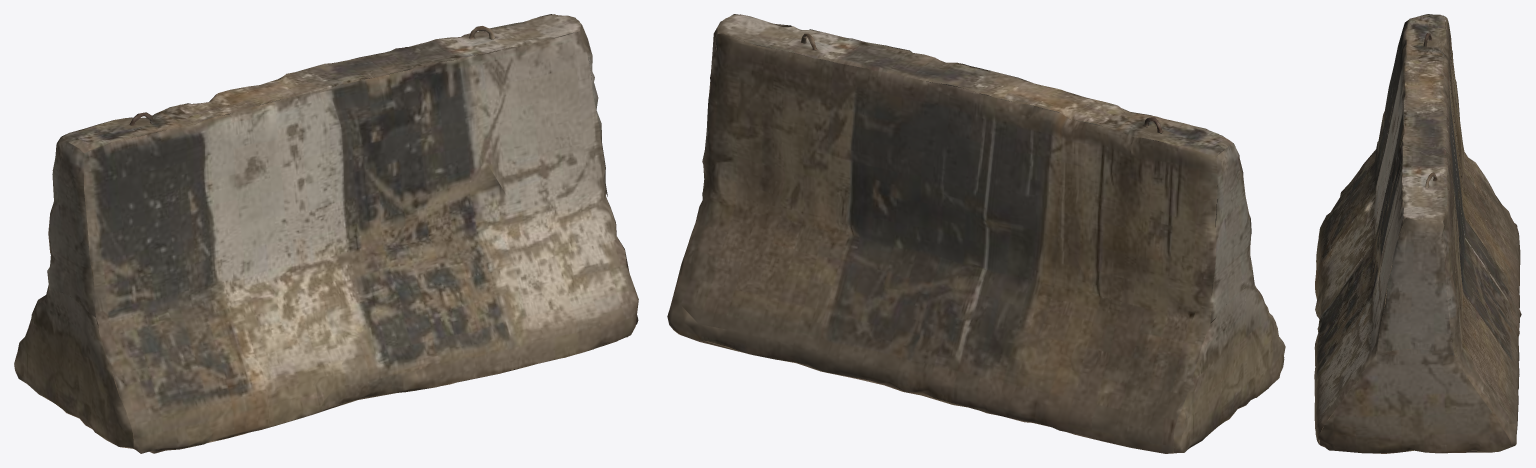
The model's file is concrete_road_barrier.glb.
The picture shows the model from 3 angles, left to right: view 1: azimuth 30°, elevation 25°; view 2: azimuth 150°, elevation 25°; view 3: azimuth 270°, elevation 25°; orthographic projection. The views are drawn at different scales.
Parts seen in each view (by area): view 1: concrete_road_barrier; view 2: concrete_road_barrier; view 3: concrete_road_barrier.
Boxes of the visible parts, <box> form: concrete_road_barrier: <box>14,14,638,453</box>; concrete_road_barrier: <box>667,14,1285,453</box>; concrete_road_barrier: <box>1314,14,1521,453</box>.
Size of the model in its own units: 1.54 by 0.8328 by 0.6358.
Materials: 1 (1 with a texture image).
